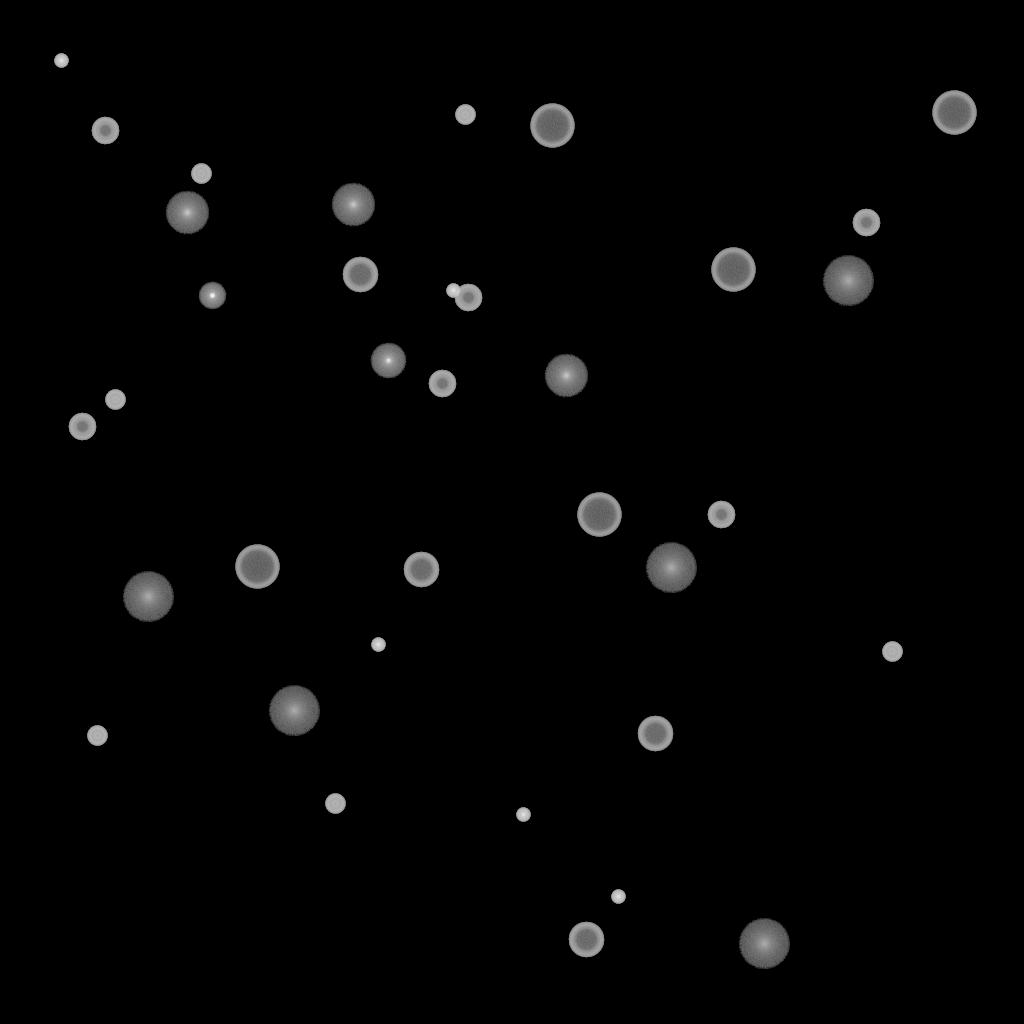depth:-10: (198, 282, 226, 310)
depth:-30: (516, 808, 530, 822), (446, 284, 460, 298), (371, 638, 385, 652), (54, 54, 68, 68), (611, 890, 625, 904)
depth:-40: (882, 642, 902, 662), (191, 164, 211, 184), (105, 390, 125, 410), (325, 794, 345, 814), (455, 105, 475, 125), (87, 726, 107, 746)
depth:-50: (428, 370, 456, 398), (454, 284, 482, 312), (852, 209, 880, 237), (68, 413, 96, 441), (707, 501, 735, 529), (91, 117, 119, 145)
depth:-60: (403, 552, 439, 588), (342, 257, 378, 293), (637, 716, 673, 752), (568, 922, 604, 958)
depth:-70: (711, 248, 755, 292), (932, 91, 976, 135), (235, 545, 279, 589), (530, 104, 574, 148), (577, 493, 621, 537)
depth:0: (370, 343, 406, 379)
depth:10: (165, 191, 209, 235), (544, 354, 588, 398), (331, 183, 375, 227)
depth:20: (645, 543, 697, 593), (822, 256, 874, 306), (268, 686, 320, 736), (122, 572, 174, 622), (738, 919, 790, 969)
